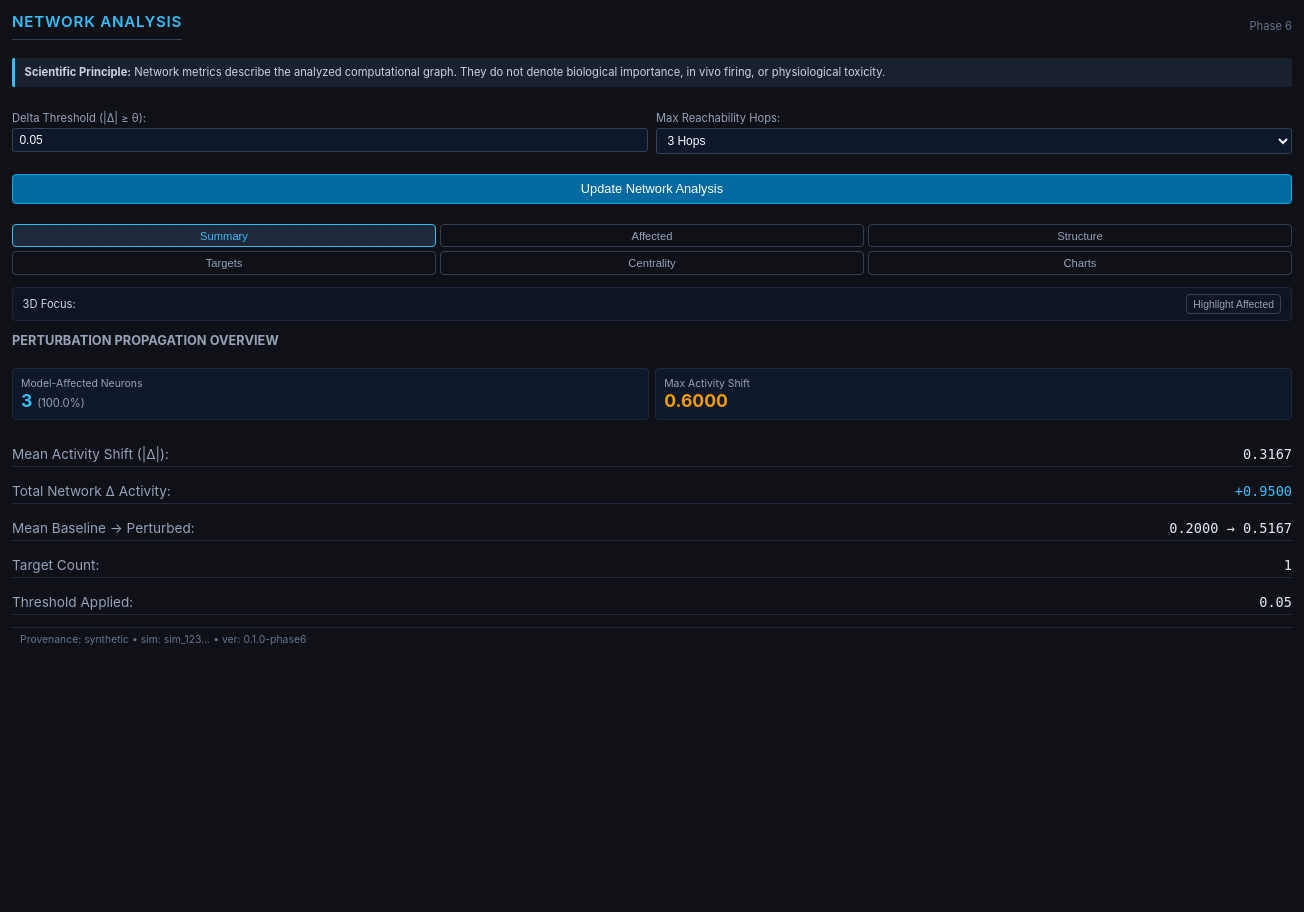
Test: Phase 6 Network Analysis Frontend Integration › 5. Switches to affected neurons list and renders rows
The image size is (1304, 912).
Click the button "Affected" at [652, 236], box [440,224,864,247]
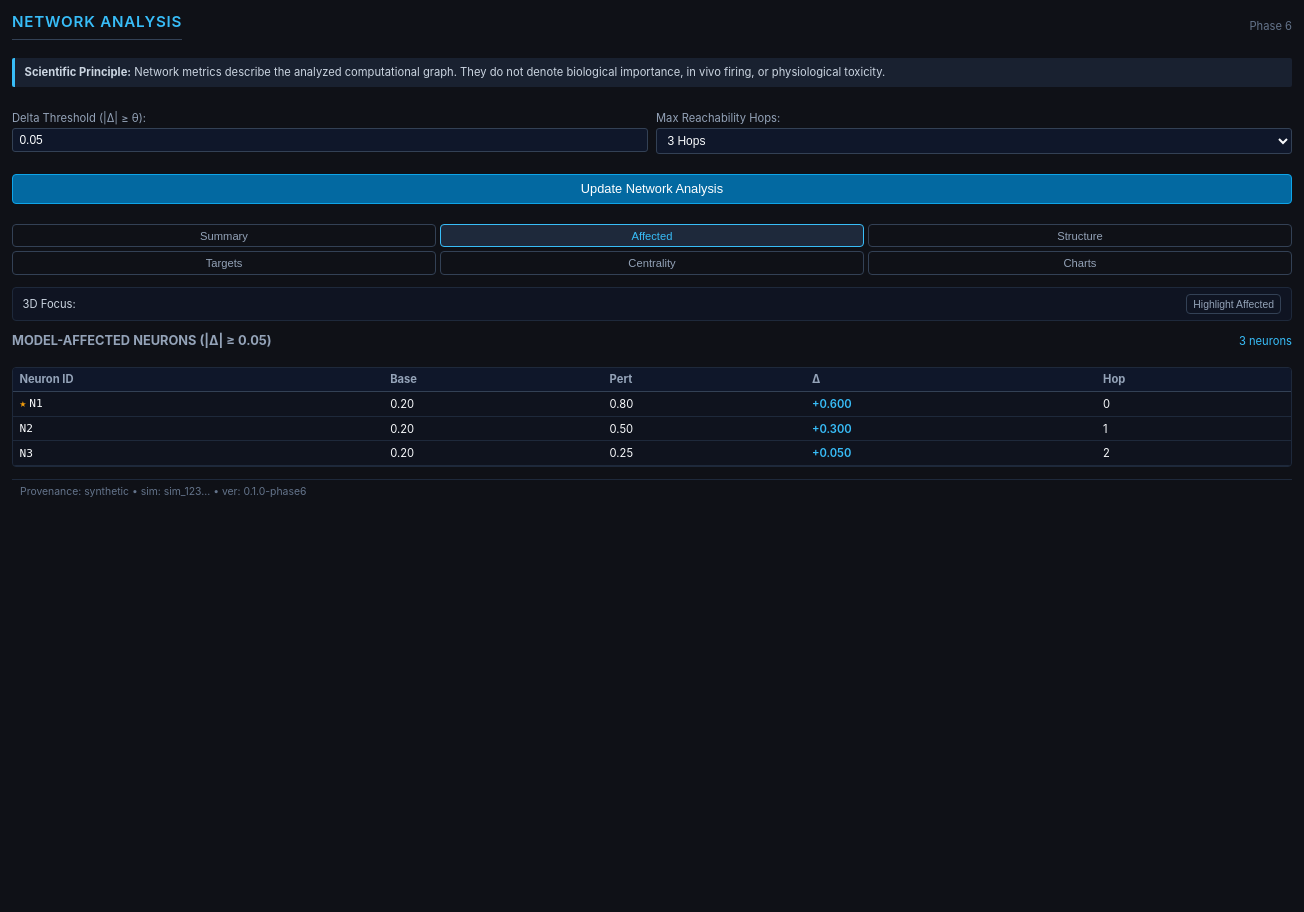
expect the text "N1" is shown: met, box [29,397,43,410]
expect the text "+0.600" is shown: met, box [806,392,1097,416]
expect the text "N2" is shown: met, box [13,416,384,441]
